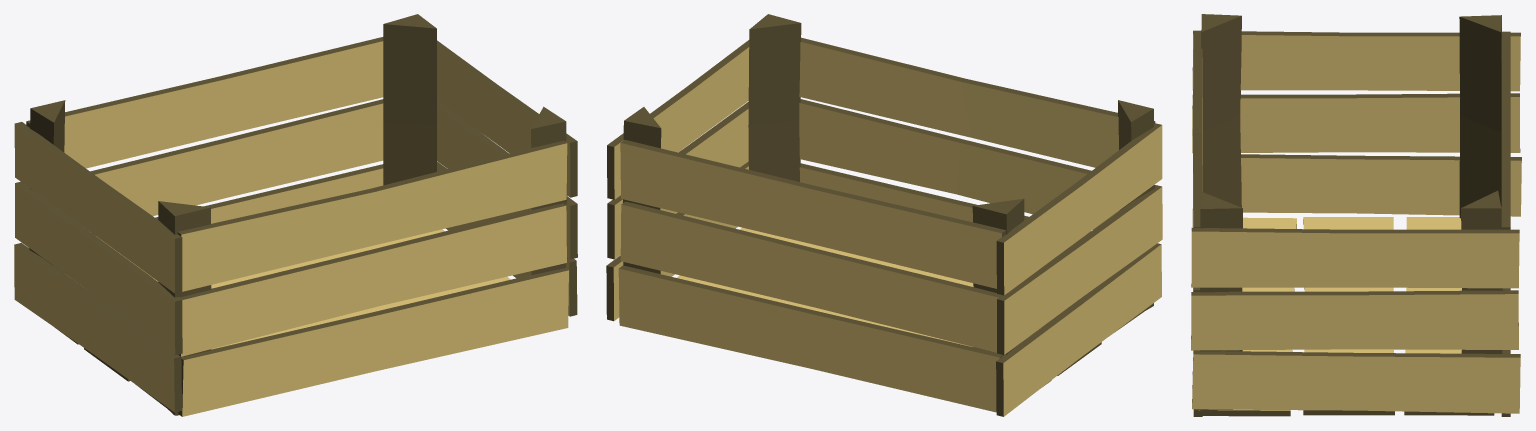
The model's file is open_crate_v2.glb.
The picture shows the model from 3 angles, left to right: view 1: azimuth 30°, elevation 25°; view 2: azimuth 150°, elevation 25°; view 3: azimuth 270°, elevation 25°; orthographic projection. The views are drawn at different scales.
Visible parts, largest first — view 1: Crate_Mesh_only; view 2: Crate_Mesh_only; view 3: Crate_Mesh_only.
Part boxes in pixels (left/top/right/bottom): Crate_Mesh_only: left=14, top=14, right=577, bottom=416; Crate_Mesh_only: left=606, top=14, right=1162, bottom=416; Crate_Mesh_only: left=1191, top=14, right=1521, bottom=416.
Bounding box in the file's own units: 2.96 × 1.44 × 2.06.
